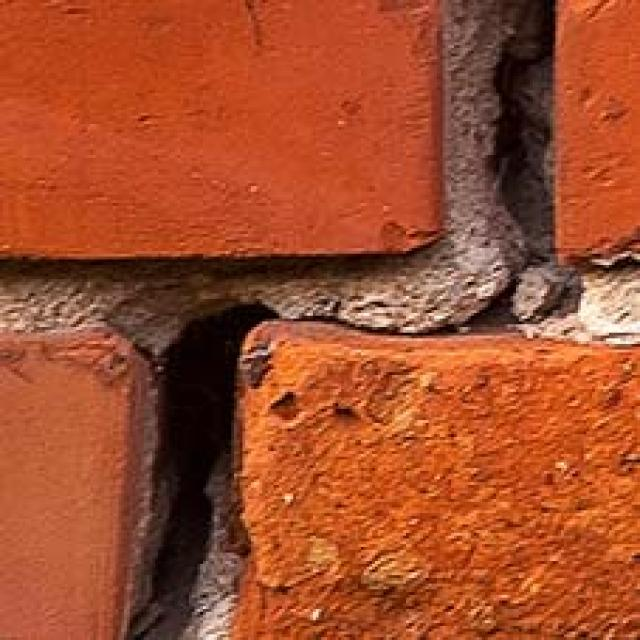Crack: (79, 0, 601, 640)
